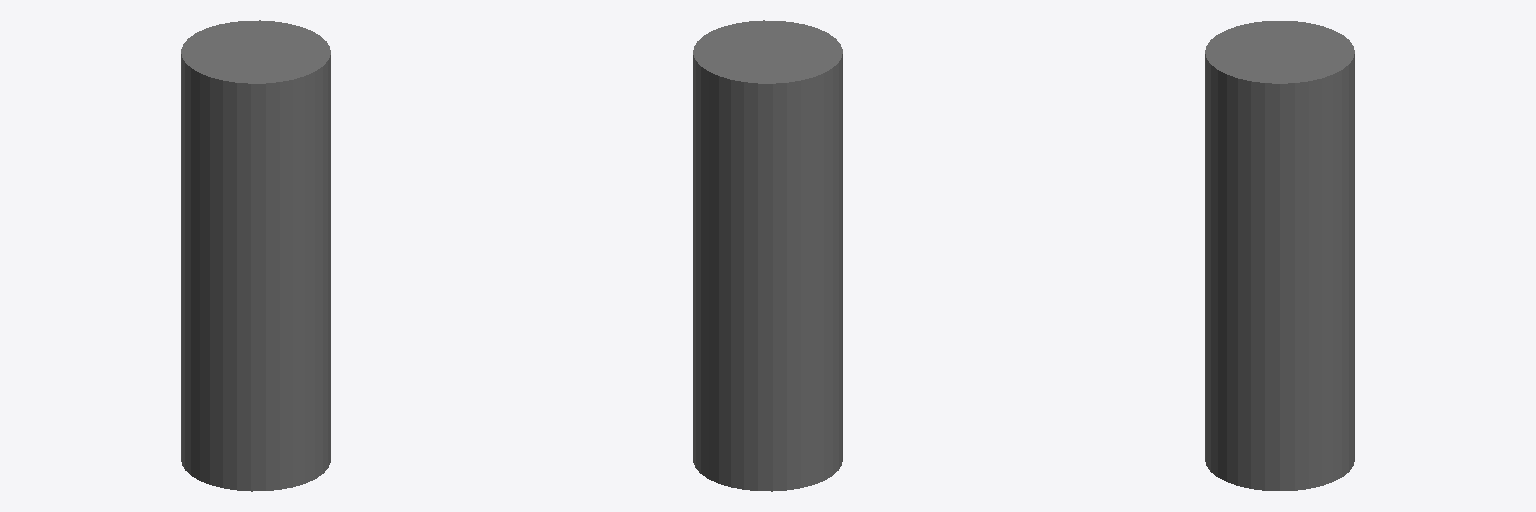
URDF robot description (cylinder):
<?xml version="1.0"?>
<robot name="cylinder">
  <link name="base_link">
    <visual>
      <geometry>
        <cylinder radius="0.01" length="0.06"/>
      </geometry>
      <material name="gray">
        <color rgba="0.5 0.5 0.5 1.0"/>
      </material>
    </visual>
    <collision>
      <geometry>
        <cylinder radius="0.01" length="0.06"/>
      </geometry>
    </collision>
    <inertial>
      <mass value="0.1"/>
      <origin xyz="0 0 0" rpy="0 0 0"/>
      <inertia ixx="1e-5" ixy="0" ixz="0" iyy="1e-5" iyz="0" izz="1e-5"/>
    </inertial>
  </link>
</robot>

--- What the picture shows (computed from the rendered views, not written in the file) ---
3 views of the same robot in one strip: view 1: azimuth 30°, elevation 25°; view 2: azimuth 150°, elevation 25°; view 3: azimuth 270°, elevation 25° (orthographic).
Robot: cylinder — 1 links, 0 joints (none); root link base_link; default pose: every joint at zero.
Visible links, largest first — view 1: base_link; view 2: base_link; view 3: base_link.
Link boxes in pixels (x1,y1,x2,y2): base_link: [181, 20, 330, 491]; base_link: [693, 20, 842, 491]; base_link: [1205, 21, 1354, 490].
Bounding box of the posed robot: 0.02 × 0.02 × 0.06 m (x, y, z).
Geometry: primitives only (box / cylinder / sphere), no mesh files.
